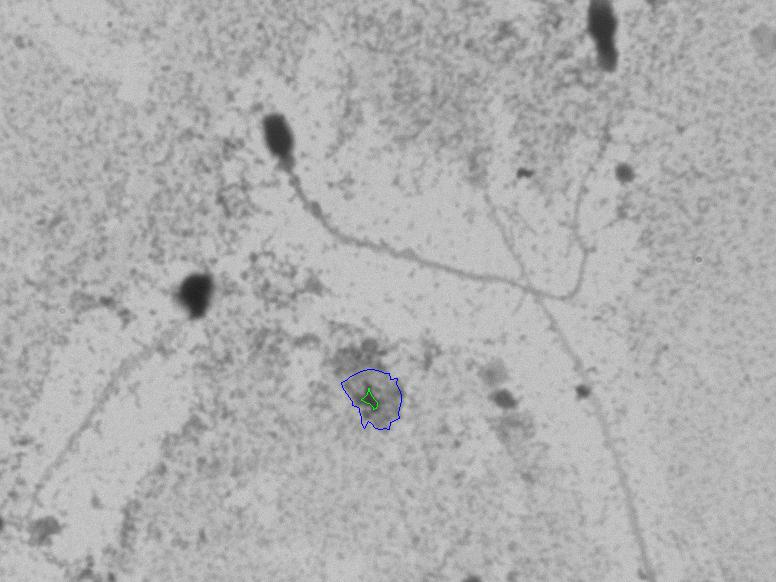Abnormal: (258, 58, 626, 338)
